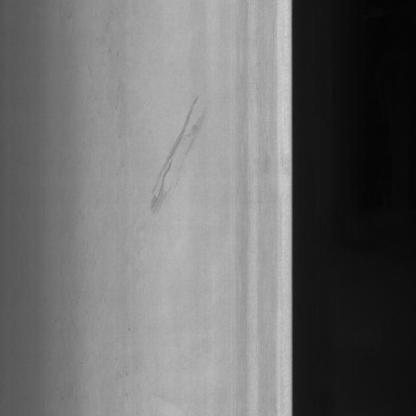water_spot: (128, 92, 209, 218)
